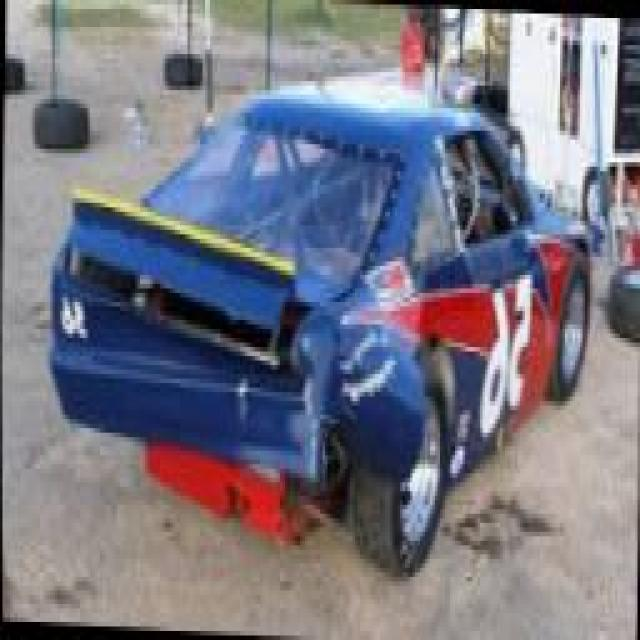Bumper: (50, 285, 342, 542)
Dickey: (62, 191, 350, 386)
Fender: (287, 287, 429, 489)
Windshield: (134, 118, 398, 280)
